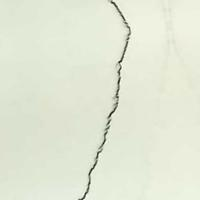crack: (66, 0, 140, 199)
